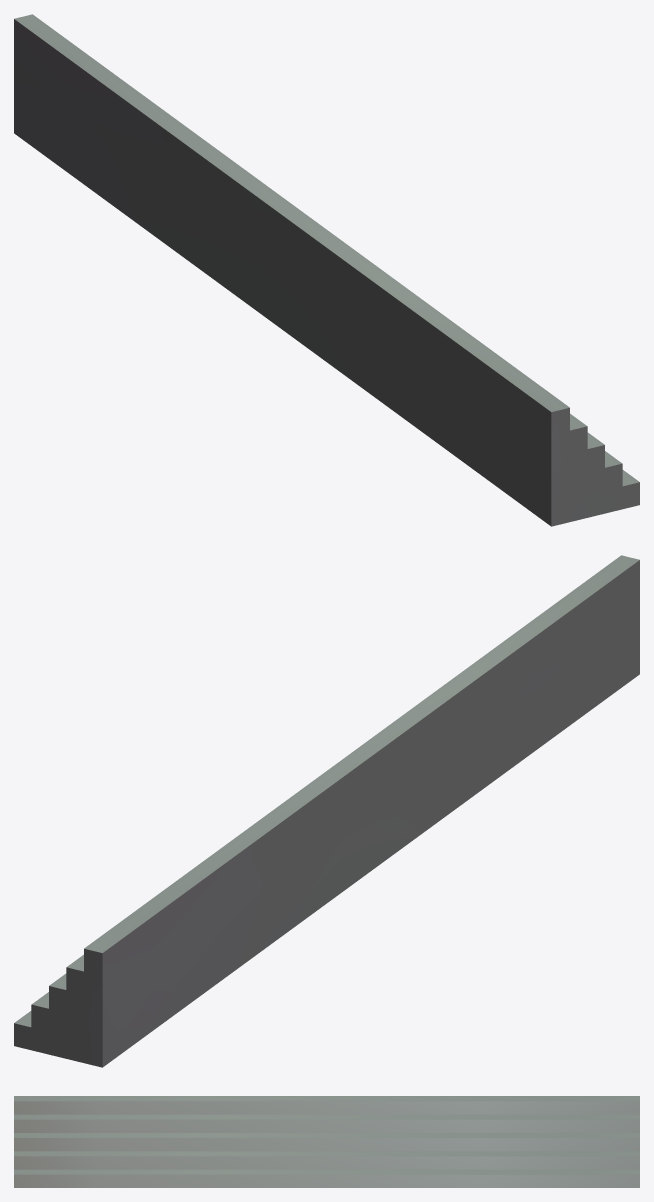
The picture shows the model from 3 angles, top to bottom: view 1: azimuth 30°, elevation 25°; view 2: azimuth 150°, elevation 25°; view 3: azimuth 270°, elevation 25°; orthographic projection. The views are drawn at different scales.
Parts seen in each view (by area): view 1: stairs_02; view 2: stairs_02; view 3: stairs_02.
Boxes of the visible parts, x1,y1,x2,y2 form: stairs_02: (14,14,639,526); stairs_02: (14,555,639,1067); stairs_02: (14,1096,639,1187).
Bounding box in the file's own units: 0.5635 × 0.696 × 5.92.
1 material, 1 textured.
